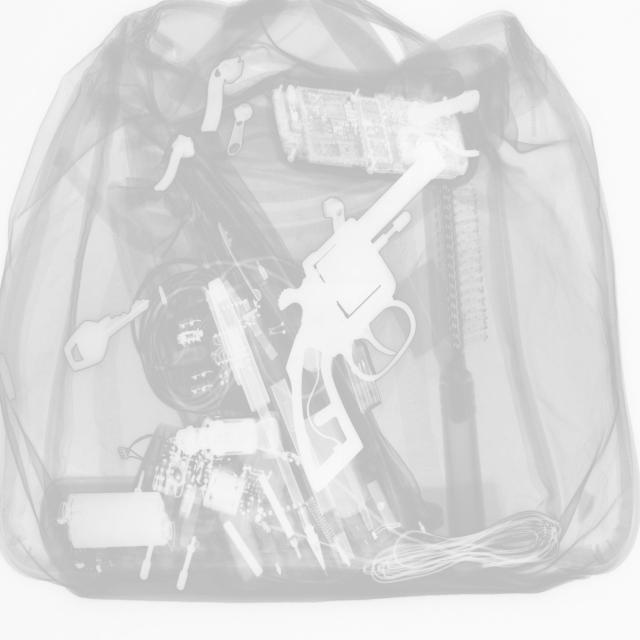pistol: (278, 150, 445, 492)
